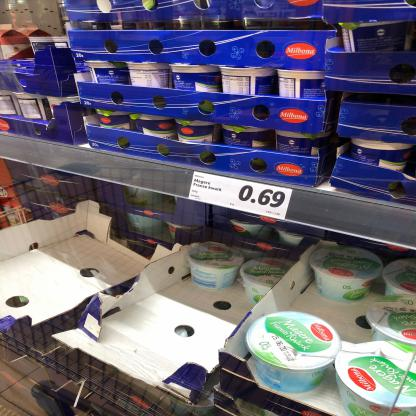prtg: (189, 172, 294, 221)
